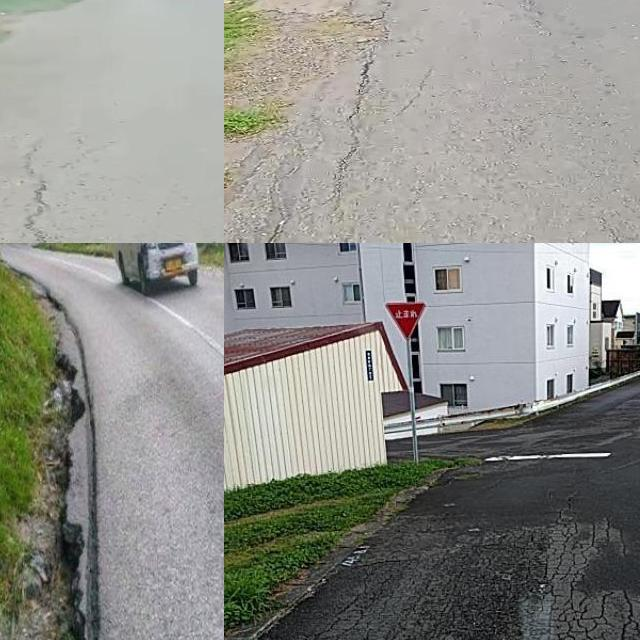Memanjang: (19, 133, 80, 243)
Pinggir: (224, 0, 418, 243), (14, 293, 119, 640)
